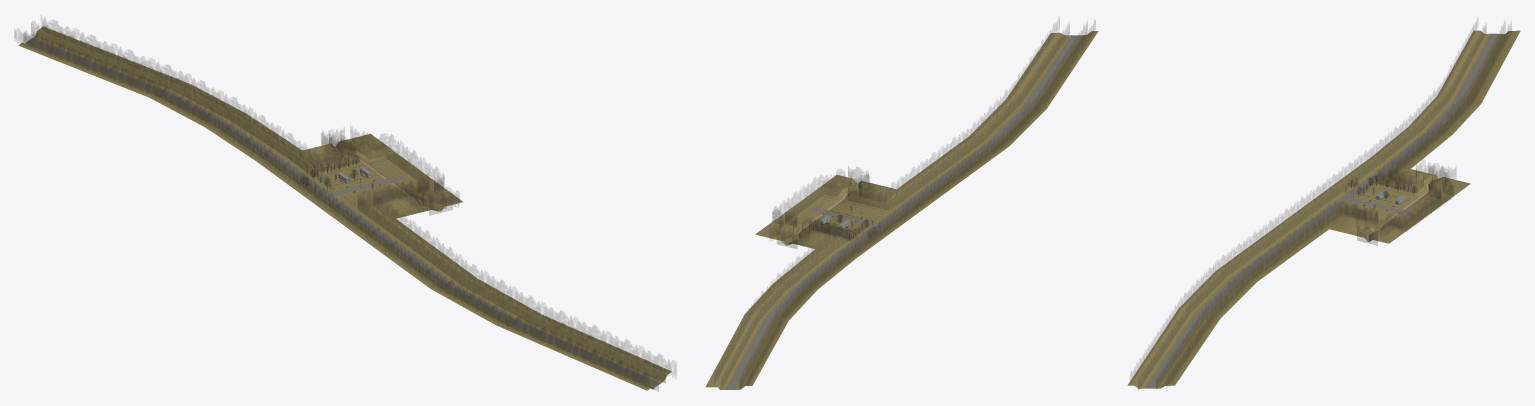
The model's file is trailer.glb.
The picture shows the model from 3 angles, left to right: view 1: azimuth 30°, elevation 25°; view 2: azimuth 150°, elevation 25°; view 3: azimuth 330°, elevation 25°; orthographic projection. The views are drawn at different scales.
Parts seen in each view (by area): view 1: Terrain.002, Terrain, Terrain.001, Background.009, Background.008, Background.004, Background.010, Background.001, Background.011, Background.005, Background.003, Background.006 (+3 smaller); view 2: Terrain.002, Terrain, Terrain.001, Background.004, Background.003, Background.009, Background.008, Background.010, Background.011, Background.001, Background.005, Background.006 (+3 smaller); view 3: Terrain.002, Terrain, Terrain.001, Background.004, Background.003, Background.008, Background.009, Background.010, Background.011, Background.001, Background.005, Background.006 (+3 smaller).
Boxes of the visible parts, x1,y1,x2,y2 form: Terrain.002: (349, 218, 671, 390); Terrain: (256, 134, 463, 230); Terrain.001: (18, 26, 301, 161); Background.009: (380, 212, 665, 382); Background.008: (361, 218, 658, 391); Background.004: (285, 127, 452, 224); Background.010: (391, 208, 676, 375); Background.001: (31, 21, 284, 155); Background.011: (352, 217, 649, 387); Background.005: (23, 31, 266, 159); Background.003: (295, 126, 459, 217); Background.006: (41, 17, 294, 150); Terrain.002: (897, 31, 1098, 199); Terrain: (755, 175, 937, 259); Terrain.001: (705, 249, 855, 389); Background.004: (777, 166, 910, 255); Background.003: (769, 169, 900, 248); Background.009: (911, 24, 1069, 193); Background.008: (927, 20, 1087, 197); Background.010: (902, 17, 1059, 188); Background.011: (936, 20, 1095, 195); Background.001: (721, 244, 827, 389); Background.005: (739, 249, 843, 389); Background.006: (714, 239, 820, 383); Terrain.002: (1127, 218, 1328, 388); Terrain: (1288, 158, 1470, 243); Terrain.001: (1370, 30, 1520, 168); Background.004: (1315, 157, 1448, 245); Background.003: (1325, 157, 1456, 236); Background.008: (1138, 214, 1298, 390); Background.009: (1156, 217, 1314, 389); Background.010: (1166, 217, 1323, 387); Background.011: (1130, 209, 1289, 382); Background.001: (1398, 21, 1505, 166); Background.005: (1382, 25, 1486, 162); Background.006: (1405, 22, 1511, 165).
Size of the model in its own units: 172 by 21.99 by 894.
Materials: 92 (90 with a texture image).
